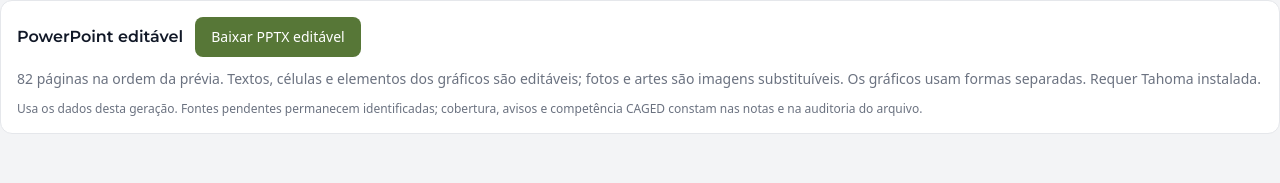
Test case: Maceió exportação na interface › falha recuperável permite tentar novamente e desmontagem encerra worker
Later steps or results of the test are not shown.
Click the button "Baixar PPTX editável" at (278, 37), box [195, 17, 361, 57]
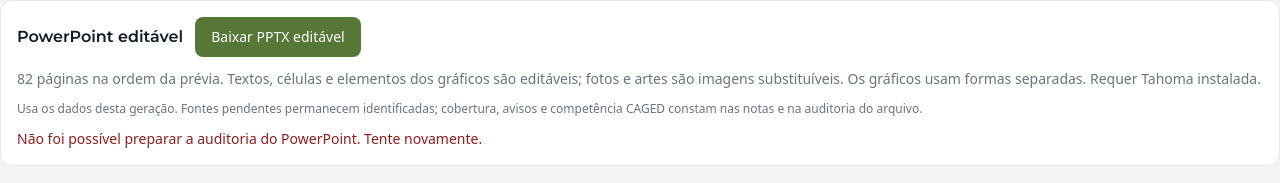
Expected: the message shows "Tente novamente", [17, 129, 482, 148]
